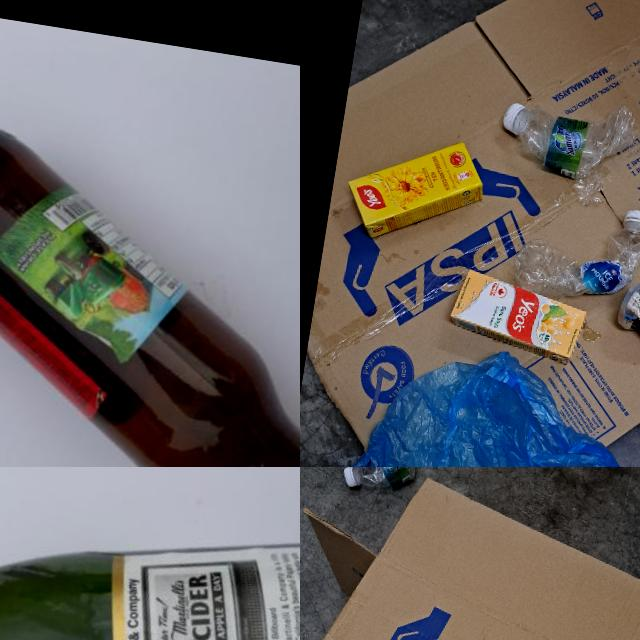caixinha: (340, 126, 490, 255), (446, 268, 590, 366)
garrafa de vidro: (0, 113, 300, 467), (0, 467, 300, 640)
garrafa plástica: (508, 207, 640, 311), (515, 90, 640, 188), (352, 467, 423, 494)
lata: (610, 280, 640, 380)
papelão: (300, 0, 640, 467), (300, 467, 640, 640)
sacola plástica: (300, 321, 640, 467)
tampa plástica: (500, 102, 525, 136), (340, 467, 358, 487), (623, 209, 640, 229)
